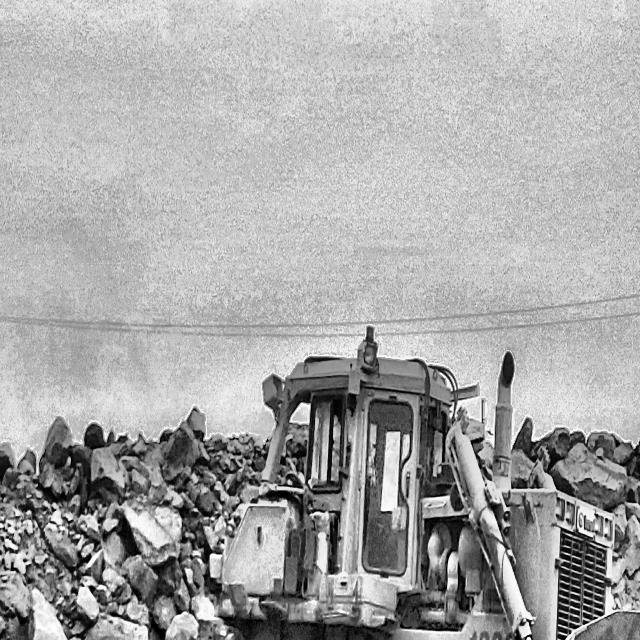buldozerpayloadergrader: (210, 333, 640, 640)
